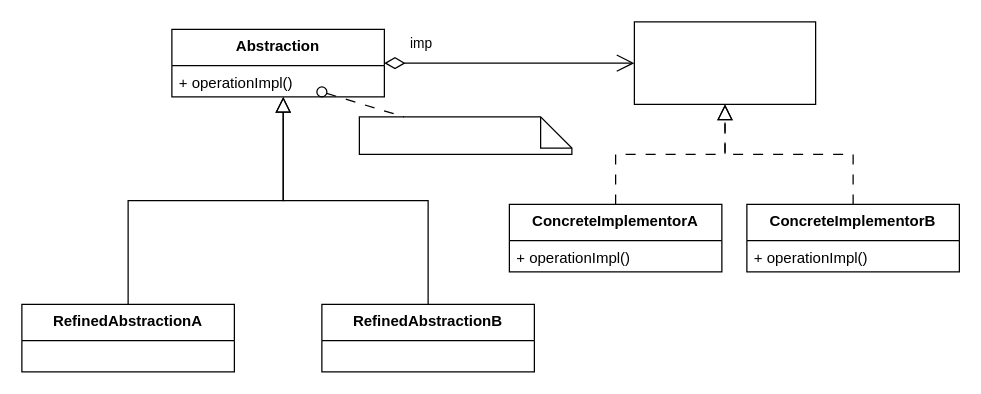
The diagram is 981 pixels wide and 394 high, and some of its shapes have lost their labels. Each missing label, with the centre of its shape:
"<<Interface>> Implementor + operationImpl()" goes at (x=724, y=62).
"imp.operationImpl()" goes at (x=465, y=135).
